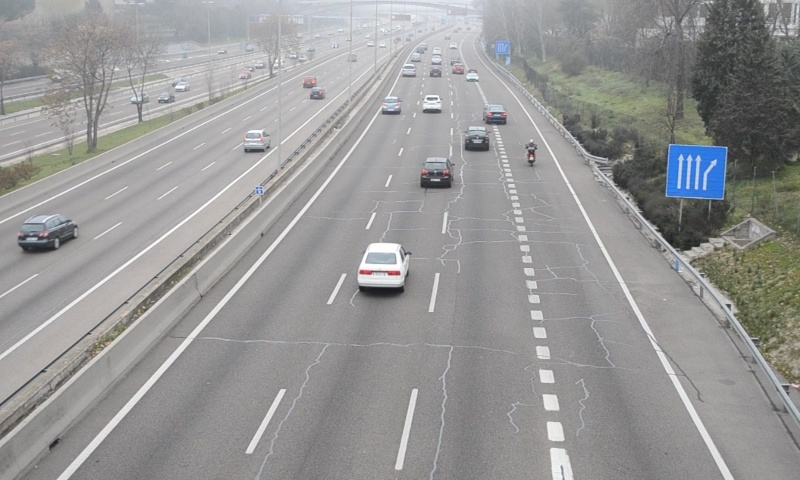car: (358, 242, 411, 288), (420, 158, 454, 186), (463, 126, 489, 151), (484, 104, 507, 125), (380, 96, 401, 115), (421, 94, 443, 112), (400, 63, 414, 78)
motorcycle: (525, 138, 538, 168)
